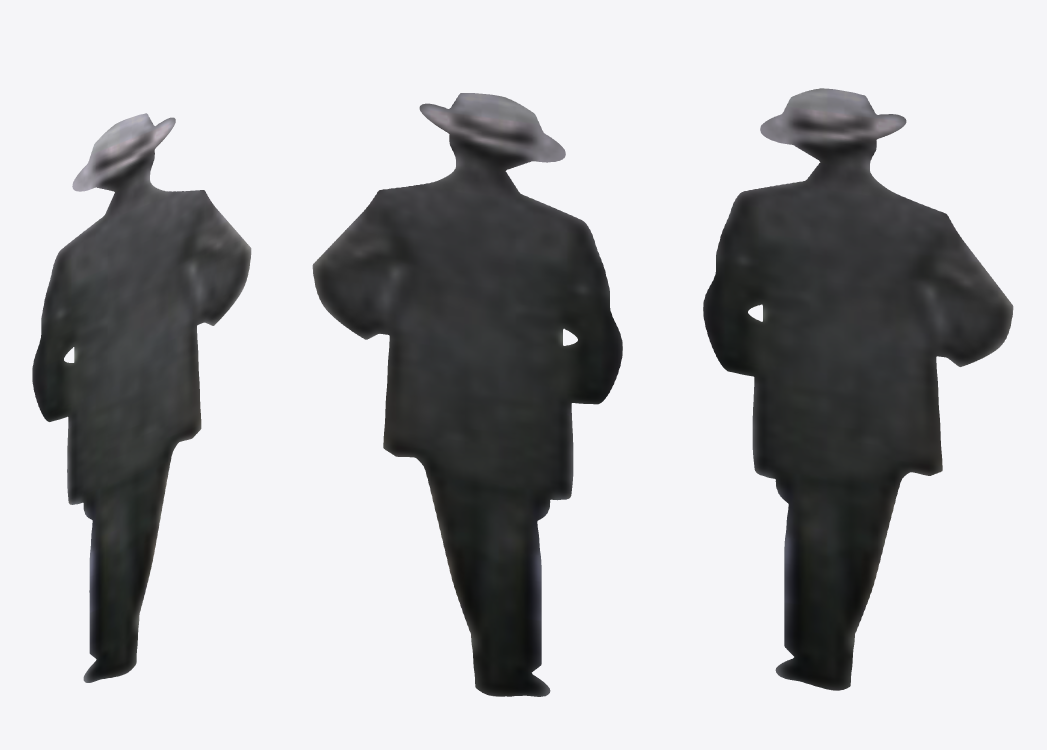
File: Old_Man_Back.FBX
3 views of the same model, side by side, from view 1: azimuth 30°, elevation 25°; view 2: azimuth 150°, elevation 25°; view 3: azimuth 330°, elevation 25° (orthographic). The views are drawn at different scales.
Visible parts, largest first — view 1: Man_Back; view 2: Man_Back; view 3: Man_Back.
Boxes of the visible parts, box(x1,y1,x2,y2) form: Man_Back: box(32, 113, 251, 682); Man_Back: box(312, 93, 622, 696); Man_Back: box(703, 88, 1013, 690).
Size of the model in its own units: 86.42 by 178 by 19.81.
Materials: 1 (1 with a texture image).
